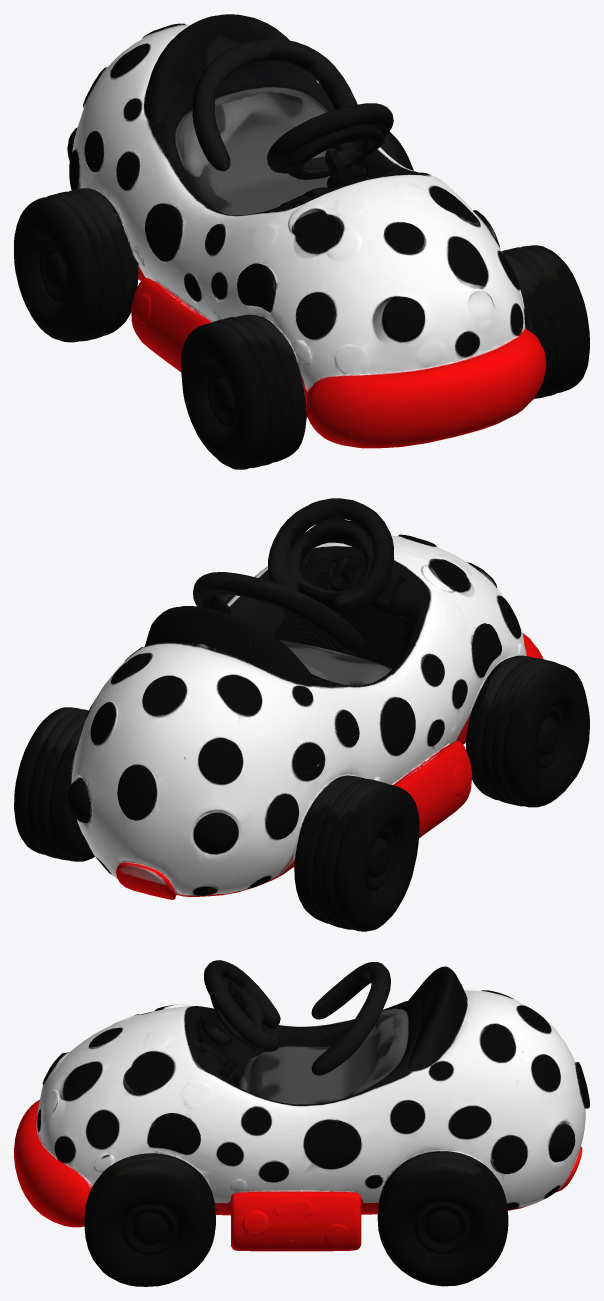
The model's file is kart_base.glb.
The picture shows the model from 3 angles, top to bottom: view 1: azimuth 30°, elevation 25°; view 2: azimuth 150°, elevation 25°; view 3: azimuth 270°, elevation 25°; orthographic projection. The views are drawn at different scales.
Size of the model in its own units: 1.15 by 0.9205 by 1.9.
1 material, 1 textured.
